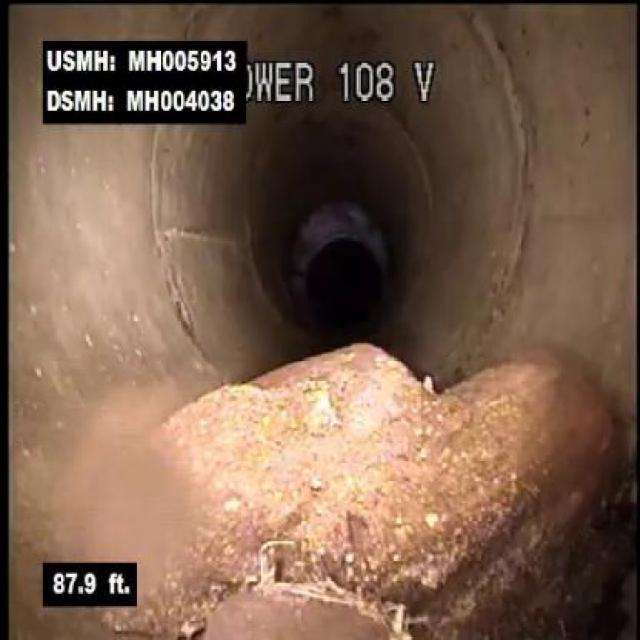Obstacle: (140, 334, 635, 638)
